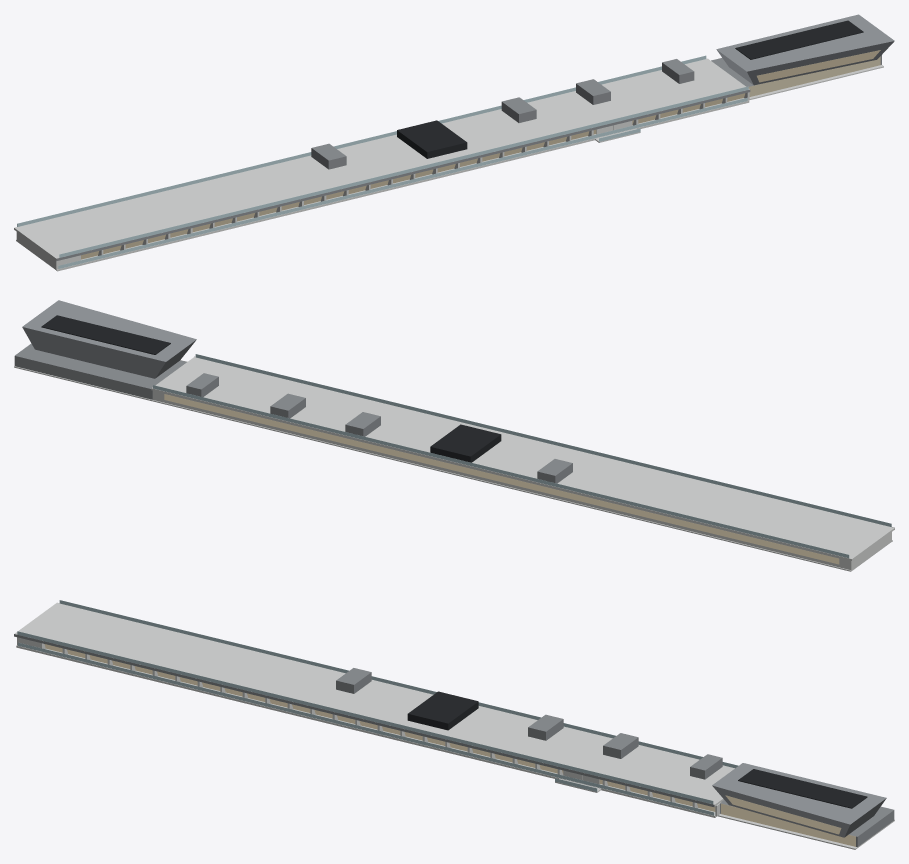
Rendered from rbr_pit_upper_2025.glb.
3 renders of one model, top to bottom at view 1: azimuth 30°, elevation 25°; view 2: azimuth 150°, elevation 25°; view 3: azimuth 330°, elevation 25°, orthographic.
Visible parts, largest first — view 1: red-bull-ring-pit-building-2025; view 2: red-bull-ring-pit-building-2025; view 3: red-bull-ring-pit-building-2025.
Part boxes in pixels (x1=…): red-bull-ring-pit-building-2025: x1=14, y1=14, x2=894, y2=271; red-bull-ring-pit-building-2025: x1=14, y1=300, x2=894, y2=571; red-bull-ring-pit-building-2025: x1=14, y1=600, x2=894, y2=849.
Size of the model in its own units: 280 by 10.55 by 27.8.
